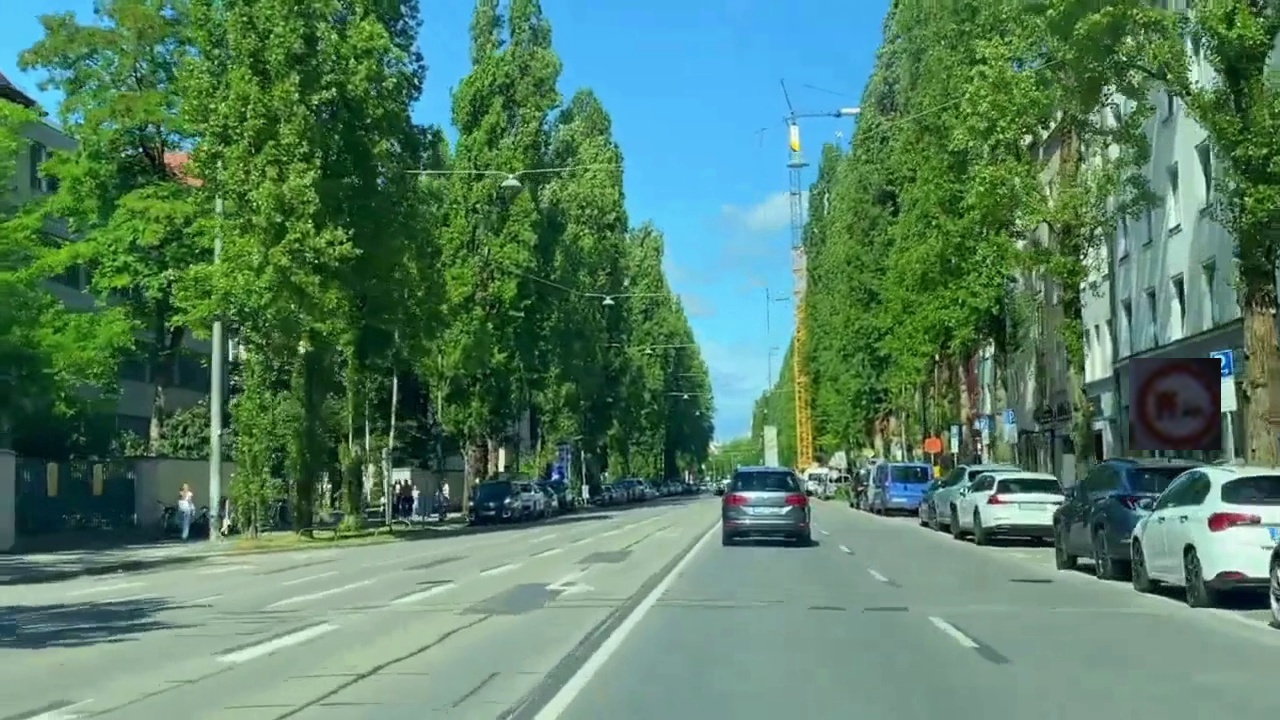No pass >3.5t: (1129, 358, 1221, 450)
